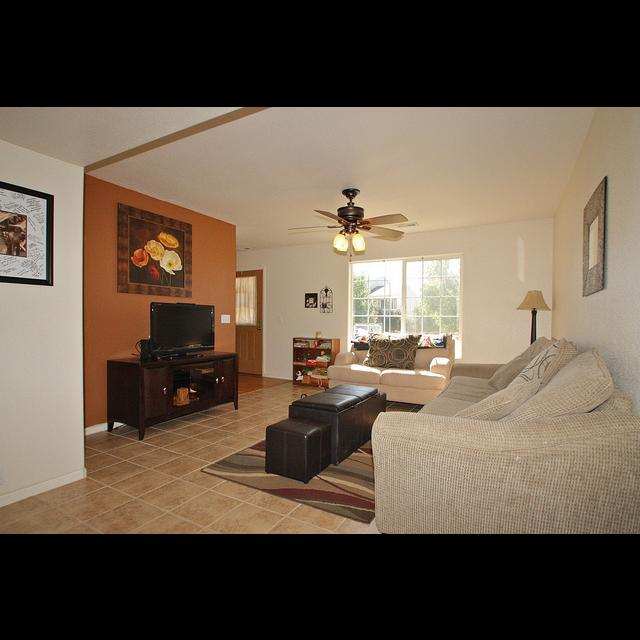Flat-Panel-TV: (150, 300, 216, 357)
